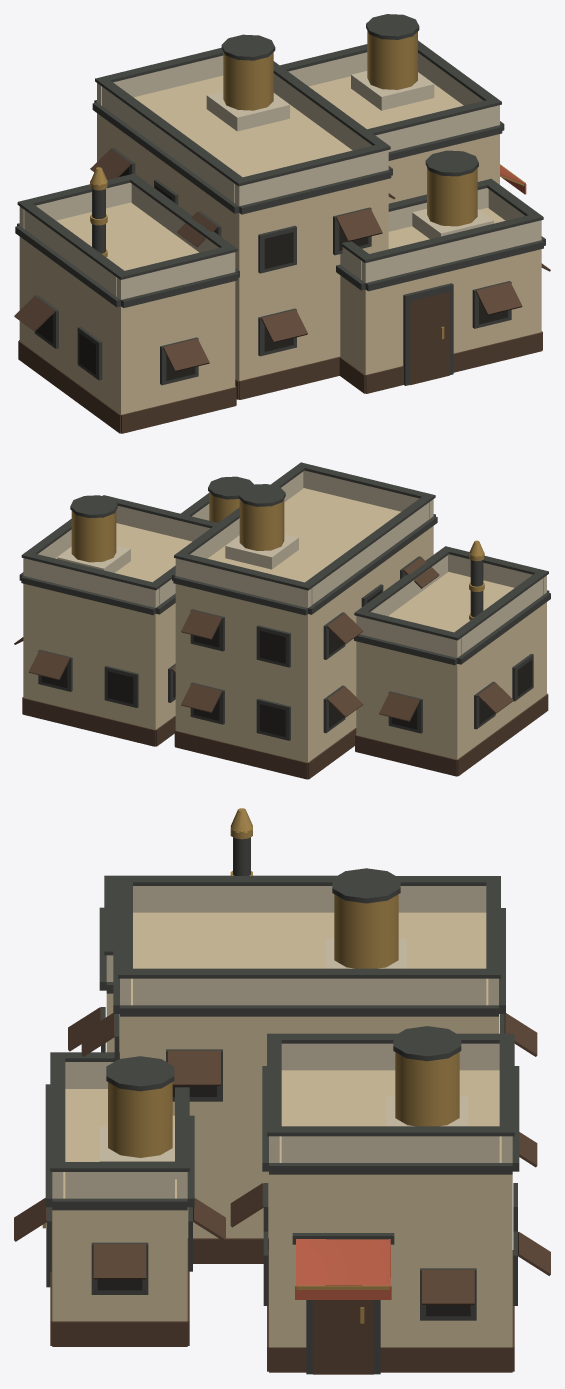
The model's file is lower_block_c.glb.
3 renders of one model, top to bottom at view 1: azimuth 30°, elevation 25°; view 2: azimuth 150°, elevation 25°; view 3: azimuth 270°, elevation 25°, orthographic. The views are drawn at different scales.
Visible parts, largest first — view 1: lower_block_c; view 2: lower_block_c; view 3: lower_block_c.
Boxes of the visible parts, x1,y1,x2,y2 form: lower_block_c: (14,14,550,433); lower_block_c: (14,462,550,779); lower_block_c: (14,808,550,1374).
Size of the model in its own units: 11.4 by 5.68 by 7.93.
